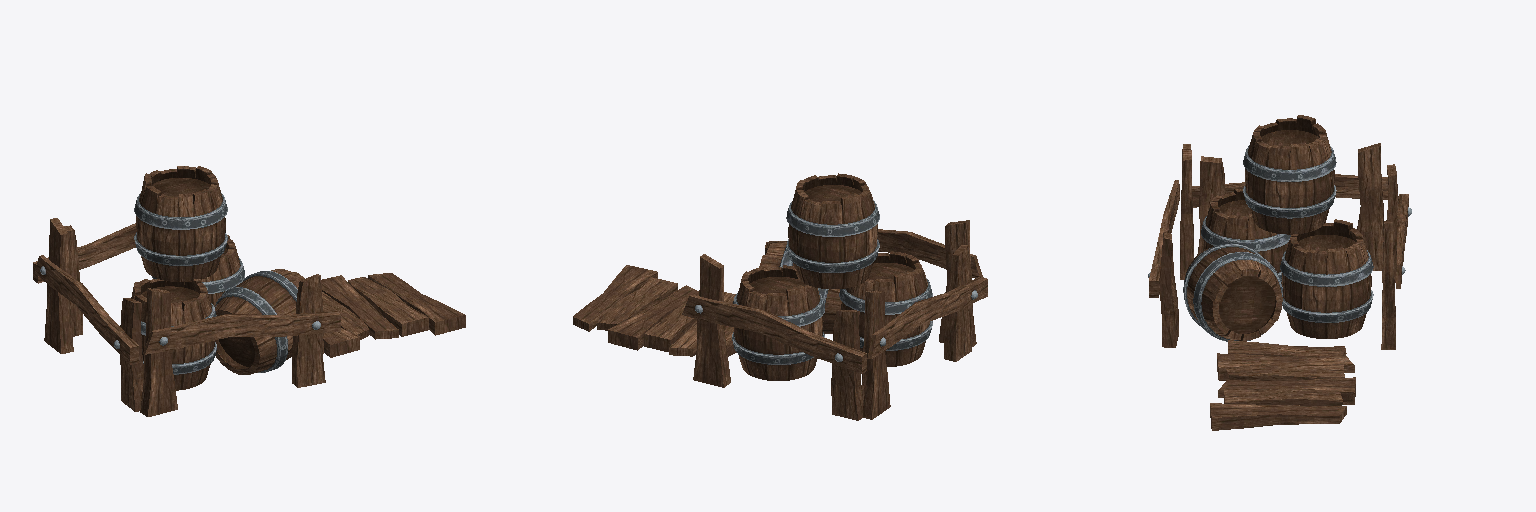
3 views of the same model, side by side, from view 1: azimuth 30°, elevation 25°; view 2: azimuth 150°, elevation 25°; view 3: azimuth 270°, elevation 25° (orthographic).
Visible parts, largest first — view 1: Cylinder.004_TD_Checker_0, Cylinder.003_TD_Checker_0, Cube.012_TD_Checker_0, Cylinder.002_TD_Checker_0, Cube.010_TD_Checker_0, Cube.009_TD_Checker_0, Cube.011_TD_Checker_0, Cube.007_TD_Checker_0, Cube.016_TD_Checker_0, Cube.015_TD_Checker_0, Cube.008_TD_Checker_0, Cube.013_TD_Checker_0 (+5 smaller); view 2: Cylinder.004_TD_Checker_0, Cylinder.001_TD_Checker_0, Cylinder.002_TD_Checker_0, Cube.006_TD_Checker_0, Cube.002_TD_Checker_0, Cube.009_TD_Checker_0, Cube.007_TD_Checker_0, Cube.003_TD_Checker_0, Cube.008_TD_Checker_0, Cube.013_TD_Checker_0, Cube.016_TD_Checker_0, Cube.012_TD_Checker_0 (+5 smaller); view 3: Cylinder.004_TD_Checker_0, Cylinder.001_TD_Checker_0, Cylinder.003_TD_Checker_0, Cylinder.002_TD_Checker_0, Cube.016_TD_Checker_0, Cube.007_TD_Checker_0, Cube.015_TD_Checker_0, Cube.014_TD_Checker_0, Cube.011_TD_Checker_0, Cube.013_TD_Checker_0, Cube.002_TD_Checker_0, Cube.010_TD_Checker_0 (+7 smaller).
Boxes of the visible parts, x1,y1,x2,y2 form: Cylinder.004_TD_Checker_0: [134, 166, 227, 281]; Cylinder.003_TD_Checker_0: [215, 269, 322, 374]; Cube.012_TD_Checker_0: [143, 311, 340, 354]; Cylinder.002_TD_Checker_0: [131, 279, 216, 390]; Cube.010_TD_Checker_0: [140, 288, 177, 416]; Cube.009_TD_Checker_0: [35, 255, 138, 364]; Cube.011_TD_Checker_0: [292, 274, 325, 387]; Cube.007_TD_Checker_0: [44, 218, 73, 353]; Cube.016_TD_Checker_0: [368, 273, 465, 335]; Cube.015_TD_Checker_0: [348, 277, 428, 336]; Cube.008_TD_Checker_0: [120, 298, 143, 411]; Cube.013_TD_Checker_0: [321, 275, 398, 339]; Cylinder.004_TD_Checker_0: [786, 173, 879, 288]; Cylinder.001_TD_Checker_0: [732, 265, 824, 380]; Cylinder.002_TD_Checker_0: [839, 251, 932, 366]; Cube.006_TD_Checker_0: [682, 295, 866, 373]; Cube.002_TD_Checker_0: [693, 254, 730, 387]; Cube.009_TD_Checker_0: [867, 277, 987, 358]; Cube.007_TD_Checker_0: [862, 290, 890, 419]; Cube.003_TD_Checker_0: [831, 310, 862, 420]; Cube.008_TD_Checker_0: [944, 245, 971, 361]; Cube.013_TD_Checker_0: [608, 285, 698, 350]; Cube.016_TD_Checker_0: [573, 265, 657, 331]; Cube.012_TD_Checker_0: [878, 229, 982, 278]; Cylinder.004_TD_Checker_0: [1243, 115, 1336, 234]; Cylinder.001_TD_Checker_0: [1280, 219, 1373, 338]; Cylinder.003_TD_Checker_0: [1183, 244, 1282, 341]; Cylinder.002_TD_Checker_0: [1201, 189, 1290, 283]; Cube.016_TD_Checker_0: [1210, 403, 1346, 430]; Cube.007_TD_Checker_0: [1357, 143, 1383, 270]; Cube.015_TD_Checker_0: [1224, 388, 1342, 405]; Cube.014_TD_Checker_0: [1226, 363, 1344, 380]; Cube.011_TD_Checker_0: [1160, 232, 1178, 347]; Cube.013_TD_Checker_0: [1218, 377, 1355, 404]; Cube.002_TD_Checker_0: [1381, 221, 1395, 349]; Cube.010_TD_Checker_0: [1180, 144, 1193, 279].
Size of the model in its own units: 1157 by 580 by 755.
1 materials, 1 textured.